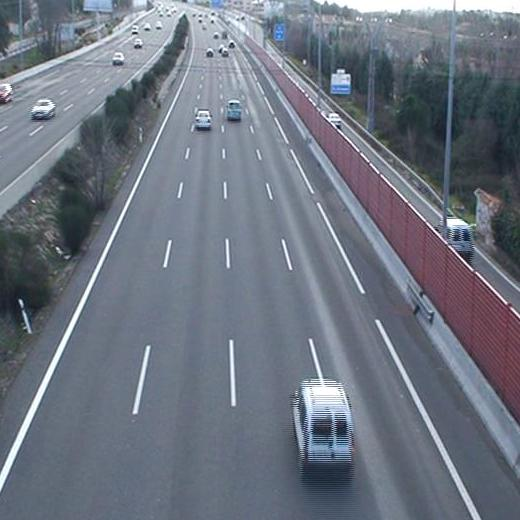car: (193, 108, 213, 129)
van: (291, 381, 355, 472), (226, 98, 242, 121)
